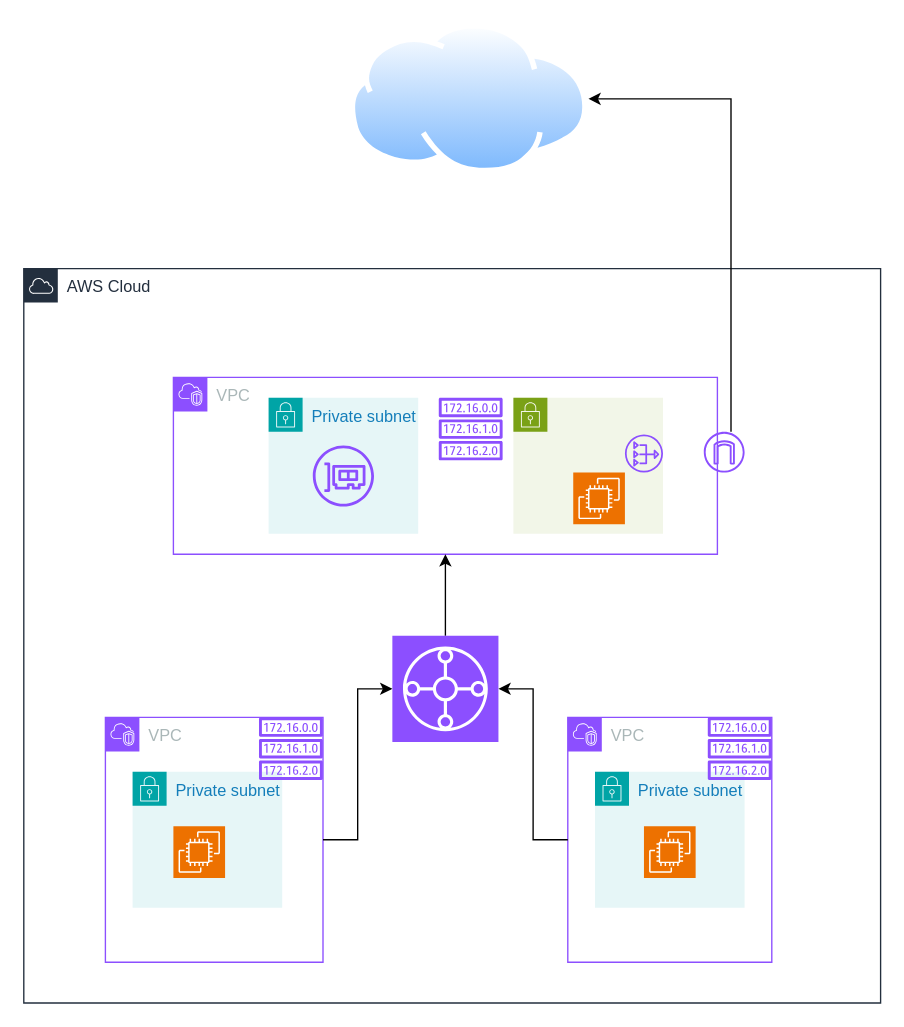
Some shapes in this 904 by 1027 pixel diagram are drawn without their labels. The box of each missing label's shape, as (x1, y1, x2, y2) in pixels:
Internet: (350, 23, 588, 173)
Public subnet: (512, 396, 663, 534)
